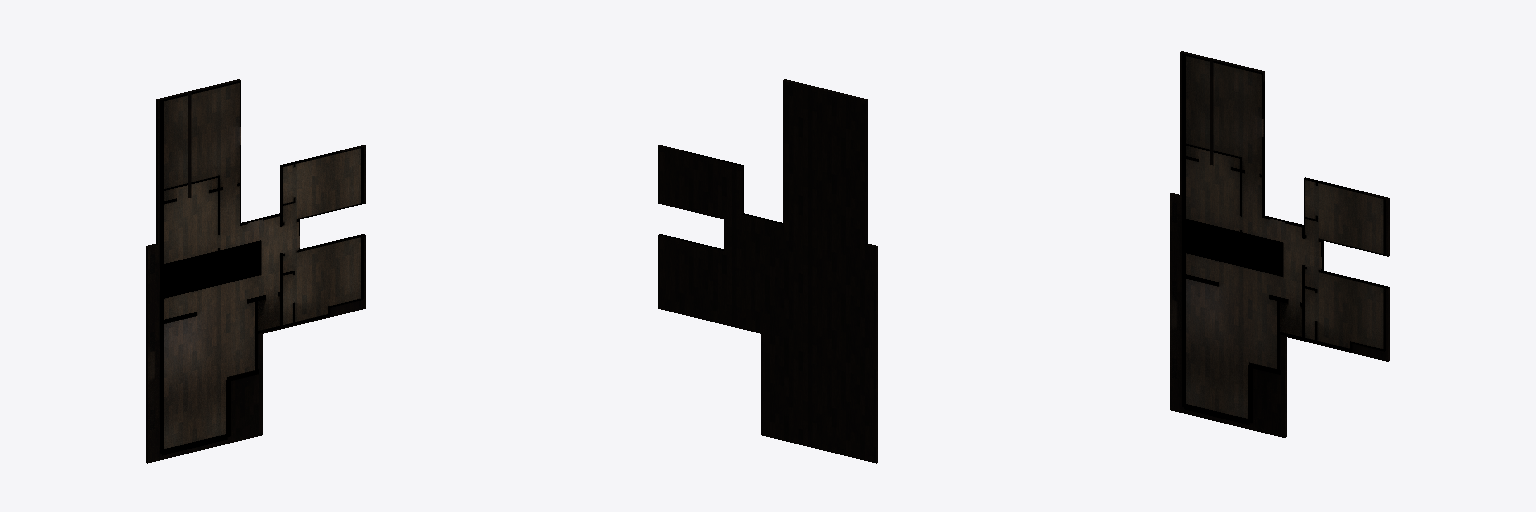
The picture shows the model from 3 angles: view 1: azimuth 30°, elevation 25°; view 2: azimuth 150°, elevation 25°; view 3: azimuth 330°, elevation 25°; orthographic projection.
Size of the model in its own units: 13.34 by 20.98 by 0.2.
1 materials, 1 textured.